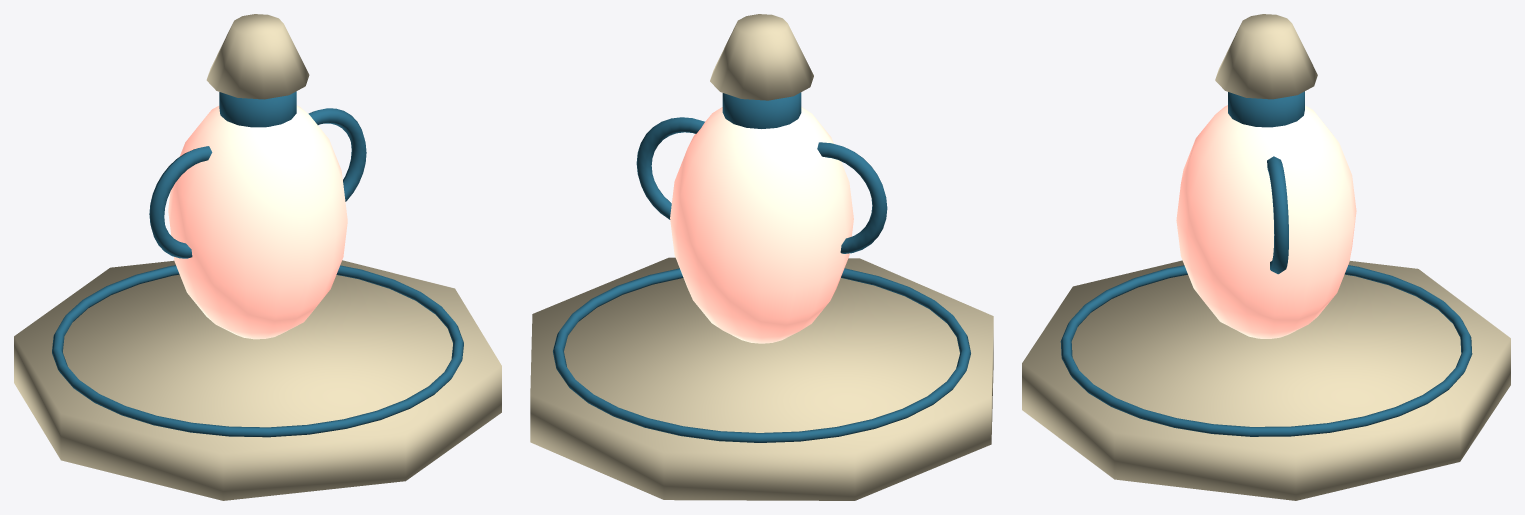
3 views of the same model, side by side, from view 1: azimuth 30°, elevation 25°; view 2: azimuth 150°, elevation 25°; view 3: azimuth 270°, elevation 25° (orthographic).
Visible parts, largest first — view 1: Hexagonal plinth, Relic vessel, Inlaid rim, Stopper, Relic handle, Neck, Relic handle.001; view 2: Hexagonal plinth, Relic vessel, Inlaid rim, Stopper, Relic handle, Neck, Relic handle.001; view 3: Hexagonal plinth, Relic vessel, Inlaid rim, Stopper, Neck, Relic handle.001.
Part boxes in pixels (left/top/right/bottom): Hexagonal plinth: left=14, top=260, right=501, bottom=500; Relic vessel: left=168, top=105, right=347, bottom=339; Inlaid rim: left=52, top=265, right=463, bottom=437; Stopper: left=206, top=14, right=309, bottom=99; Relic handle: left=149, top=146, right=212, bottom=258; Neck: left=219, top=91, right=296, bottom=127; Relic handle.001: left=308, top=108, right=366, bottom=201; Hexagonal plinth: left=530, top=257, right=993, bottom=500; Relic vessel: left=670, top=107, right=853, bottom=343; Inlaid rim: left=553, top=268, right=970, bottom=442; Stopper: left=710, top=14, right=813, bottom=100; Relic handle: left=817, top=142, right=887, bottom=253; Neck: left=722, top=92, right=801, bottom=128; Relic handle.001: left=636, top=117, right=704, bottom=219; Hexagonal plinth: left=1022, top=260, right=1510, bottom=500; Relic vessel: left=1176, top=105, right=1356, bottom=338; Inlaid rim: left=1060, top=265, right=1472, bottom=436; Stopper: left=1215, top=14, right=1317, bottom=99; Neck: left=1228, top=91, right=1304, bottom=127; Relic handle.001: left=1267, top=156, right=1288, bottom=274.
Size of the model in its own units: 1.51 by 1.27 by 1.51.
